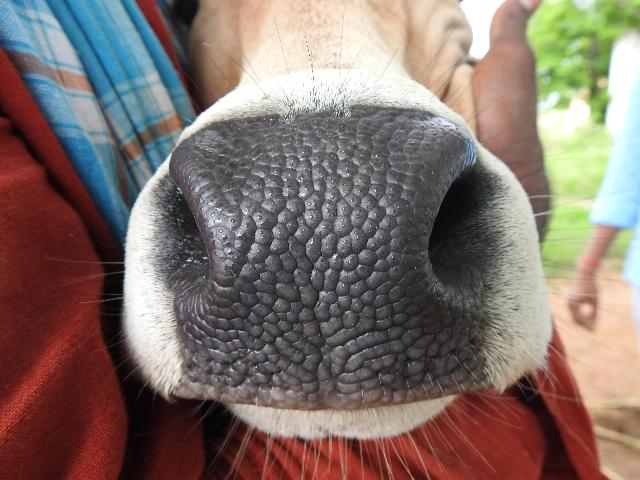Muzzle: (198, 130, 452, 386)
